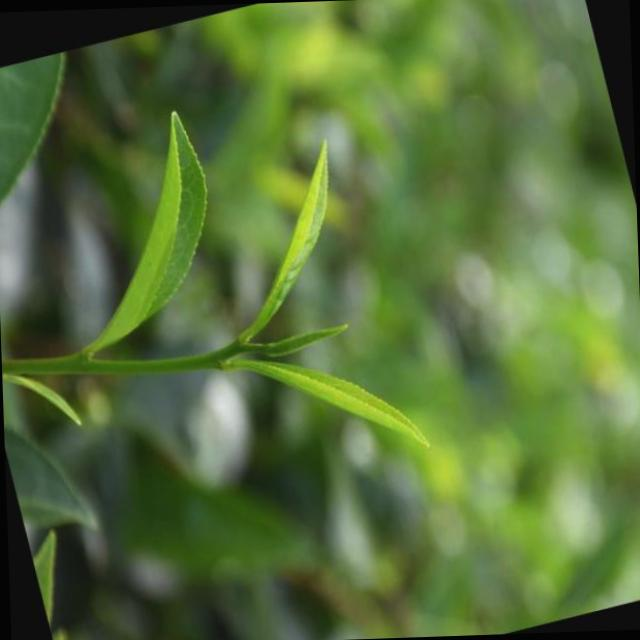Stem: (203, 352, 222, 368)
